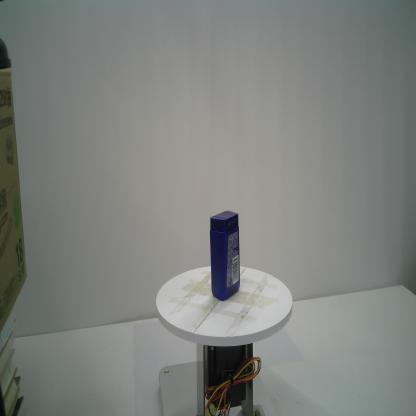Personal Hygiene: (209, 209, 242, 302)
